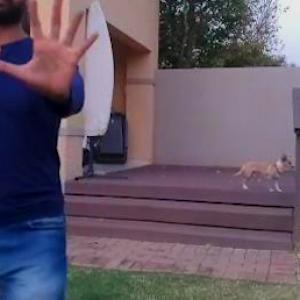follow_hand: (1, 0, 104, 107)
